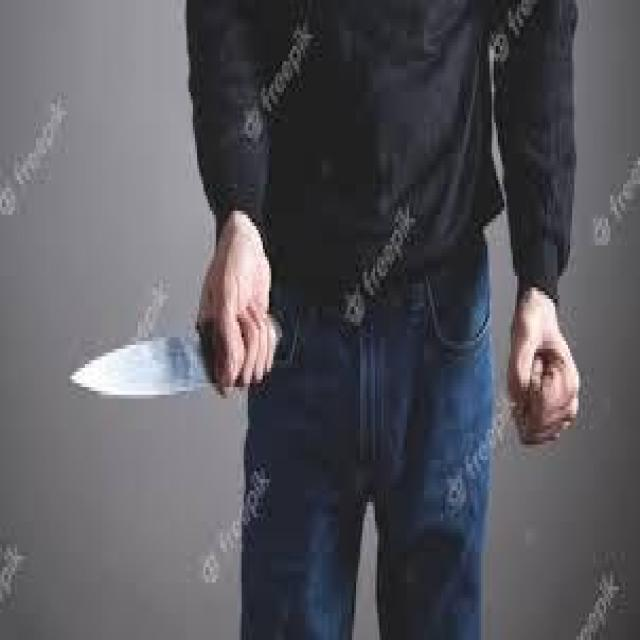faca: (59, 230, 294, 406)
